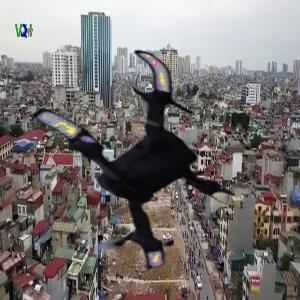drone: (20, 48, 263, 291)
